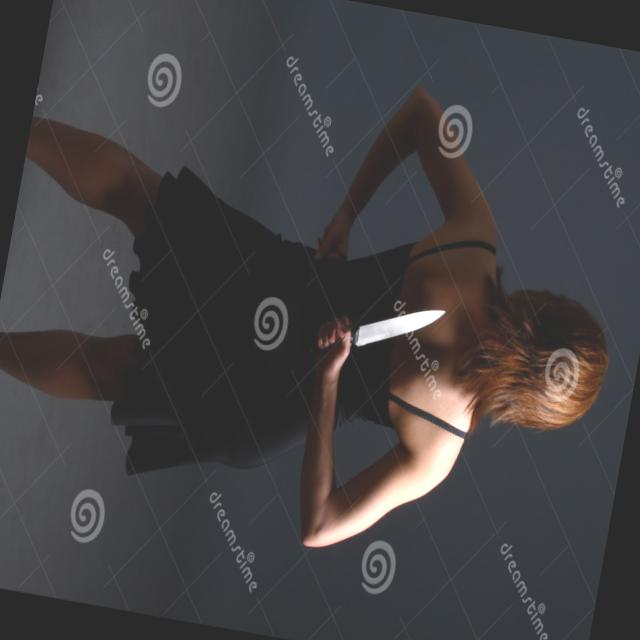knife: (308, 277, 454, 375)
